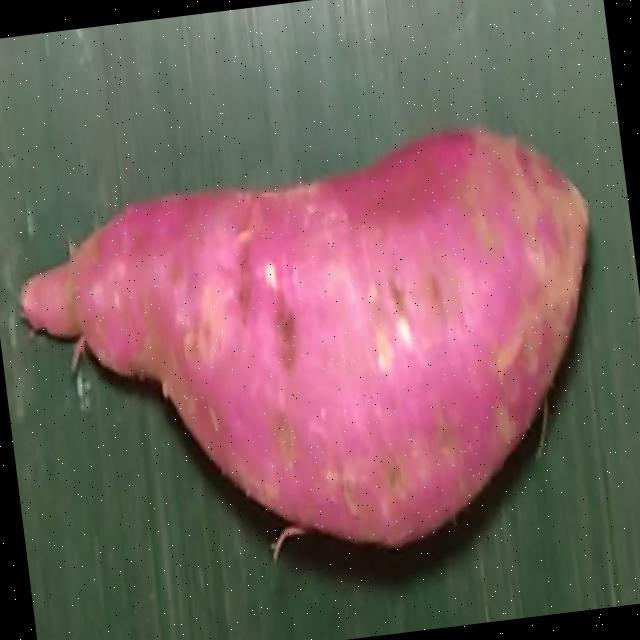Sweet Potato: (21, 125, 592, 544)
